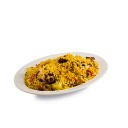briyani: (26, 52, 98, 87)
